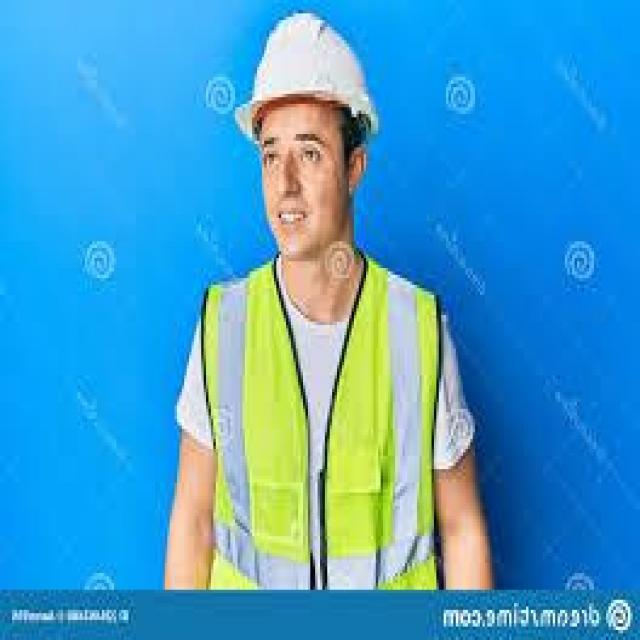Reflective-Jacket: (194, 255, 453, 593)
Safety-Helmet: (238, 7, 380, 137)
